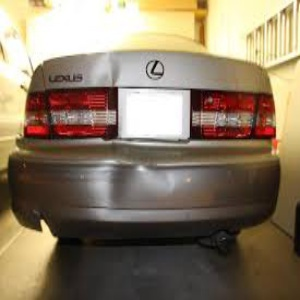bumper: (91, 153, 187, 210)
